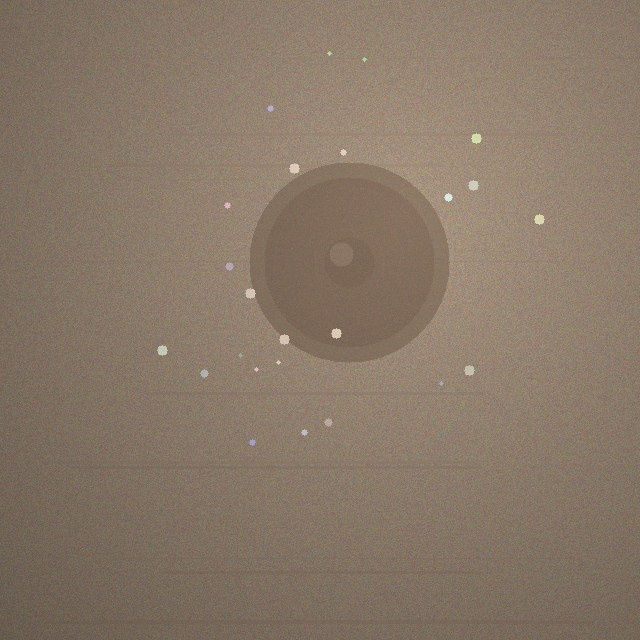overburn: (249, 162, 449, 362)
